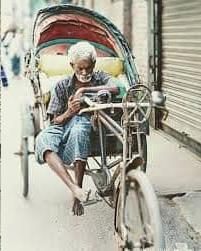Rickshaw: (11, 2, 173, 232)
